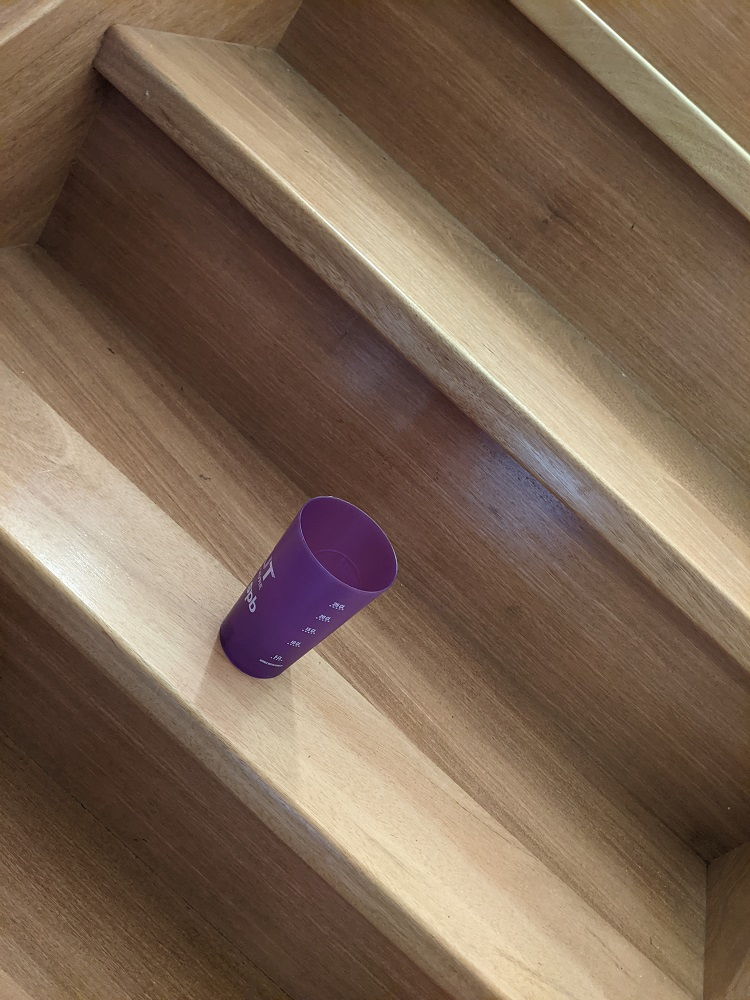ecocup: (219, 496, 398, 679)
